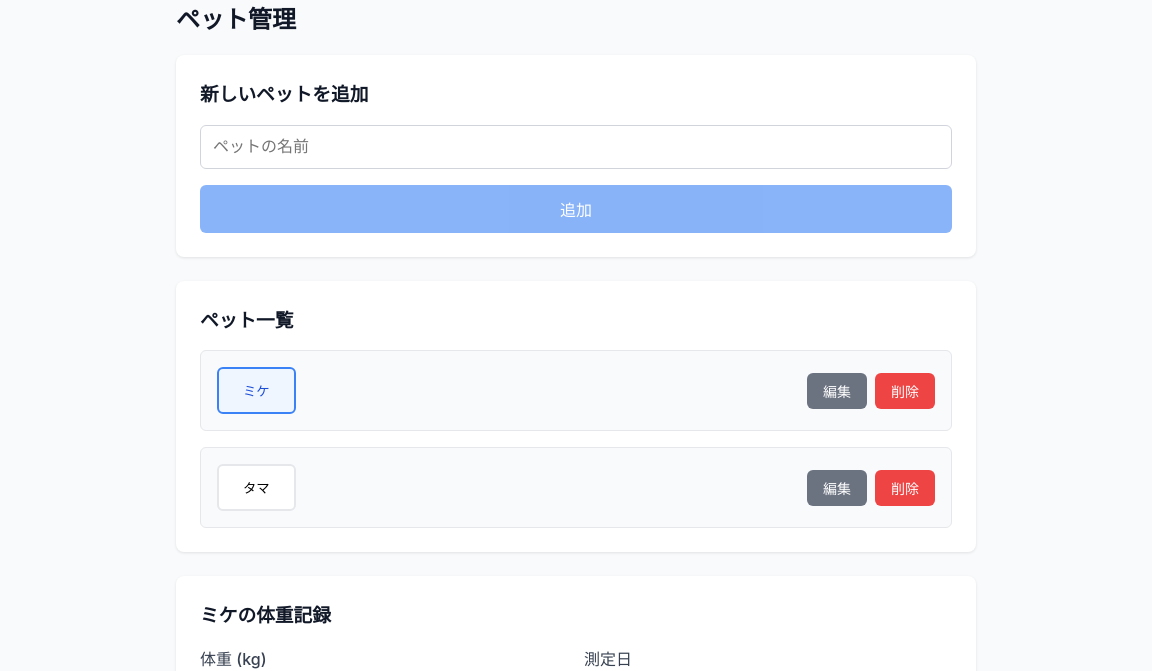
Test case: PetManagement › Pet Registration Form › should display error message when pet creation fails
This screenshot has width=1152, height=671.
Type "シロ" into the field with placeholder "ペットの名前".
click(576, 147); type("シロ")  # box [200,125,952,169]
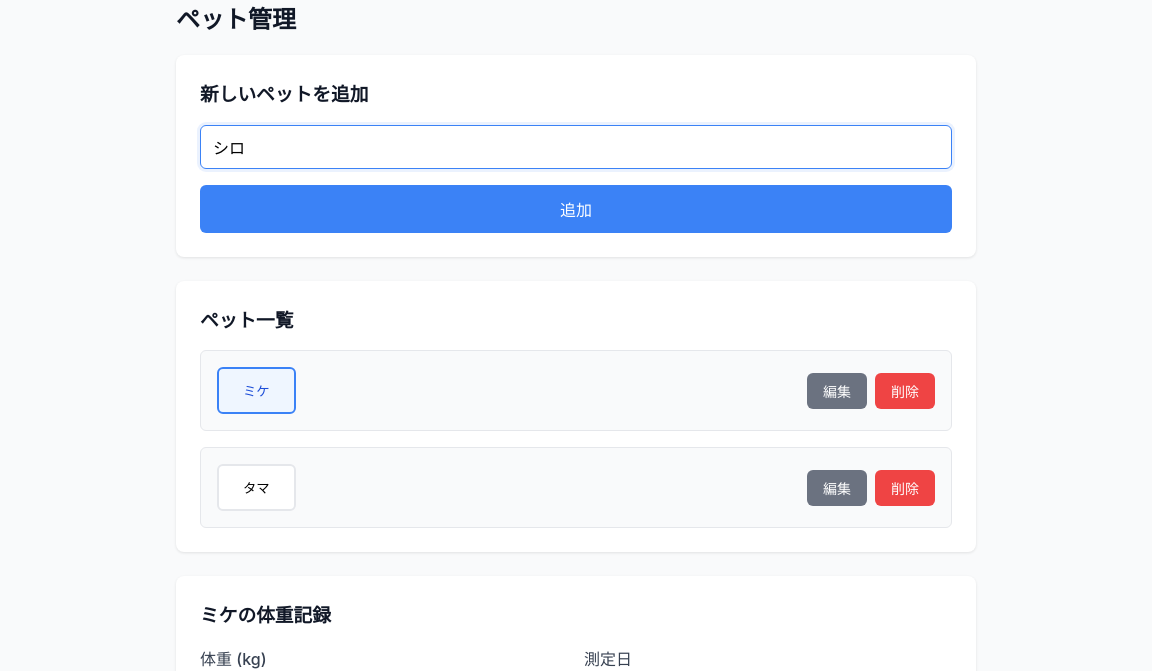
Click the button "追加".
click(576, 209)  # box [200,185,952,233]
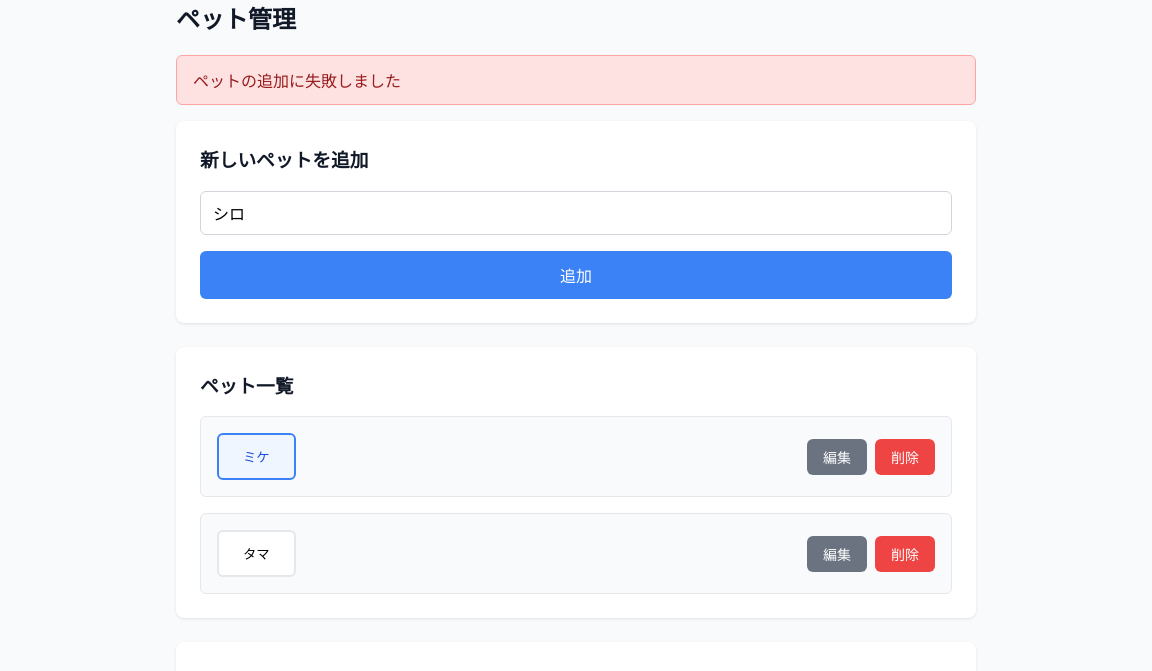
Expected: the text "ペットの追加に失敗しました" is shown, [176,55,976,105]
